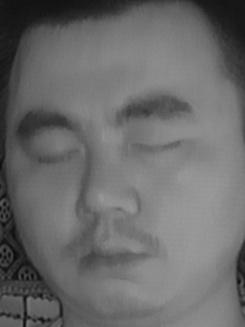blink: (31, 134, 83, 177), (131, 126, 180, 166)
mouth: (73, 226, 157, 284)
